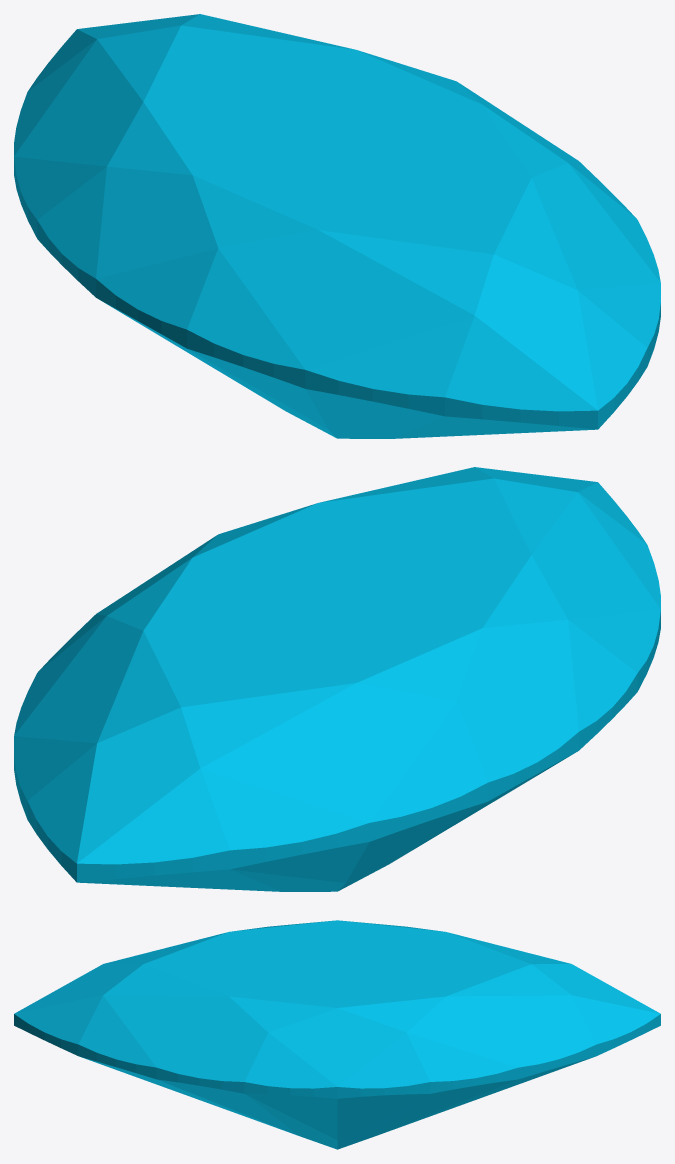
The model's file is Head_Single Halo_Marquise_0.50ct_Diamond.glb.
3 views of the same model, one above another, from view 1: azimuth 30°, elevation 25°; view 2: azimuth 150°, elevation 25°; view 3: azimuth 270°, elevation 25° (orthographic). The views are drawn at different scales.
Size of the model in its own units: 0.00424 by 0.00251 by 0.00792.
